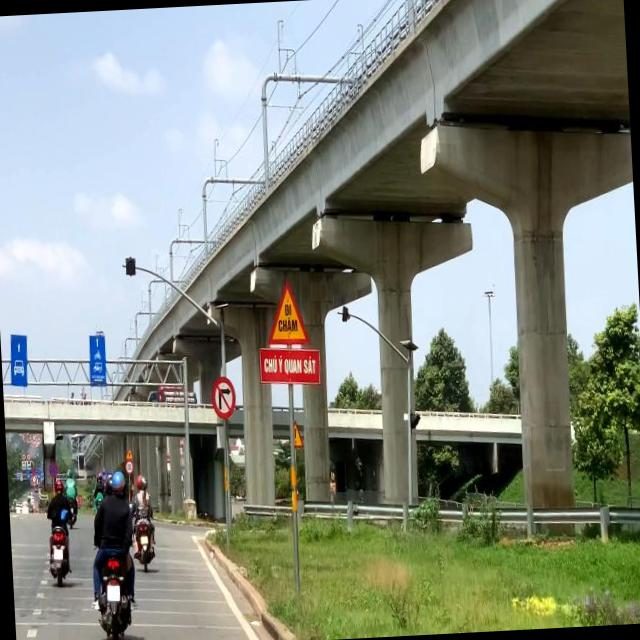P-123b: (209, 376, 237, 419)
W-245a: (263, 280, 311, 348)
